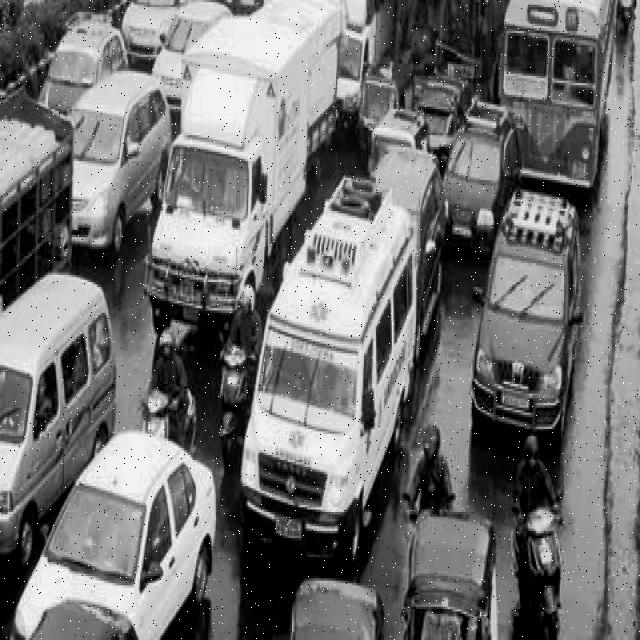Ambulance: (229, 183, 426, 571)
